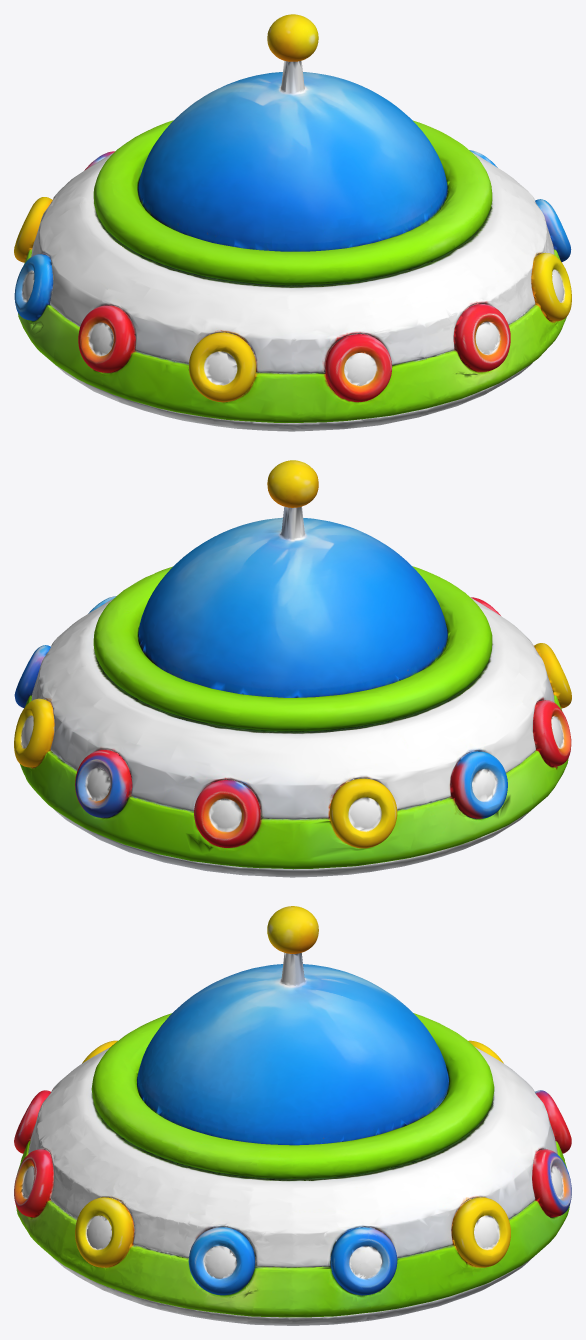
Rendered from ovni-3d.glb.
3 renders of one model, top to bottom at view 1: azimuth 30°, elevation 25°; view 2: azimuth 150°, elevation 25°; view 3: azimuth 270°, elevation 25°, orthographic.
Parts seen in each view (by area): view 1: tripo_node_63db34e3-d0b9-44fe-849b-46e32ade2b68; view 2: tripo_node_63db34e3-d0b9-44fe-849b-46e32ade2b68; view 3: tripo_node_63db34e3-d0b9-44fe-849b-46e32ade2b68.
Part boxes in pixels (x1=…): tripo_node_63db34e3-d0b9-44fe-849b-46e32ade2b68: x1=14, y1=14, x2=571, y2=431; tripo_node_63db34e3-d0b9-44fe-849b-46e32ade2b68: x1=14, y1=460, x2=571, y2=877; tripo_node_63db34e3-d0b9-44fe-849b-46e32ade2b68: x1=14, y1=906, x2=571, y2=1325.
Size of the model in its own units: 0.979 by 0.6875 by 0.9786.
1 material, 1 textured.
